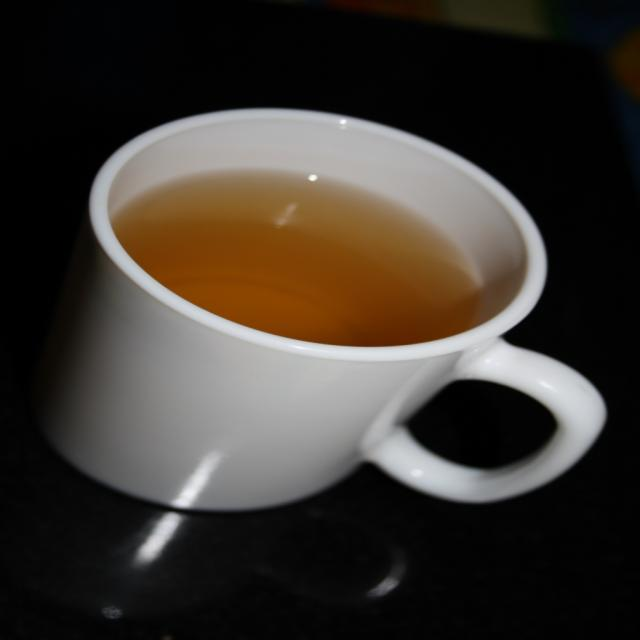Tea: (115, 162, 491, 344)
